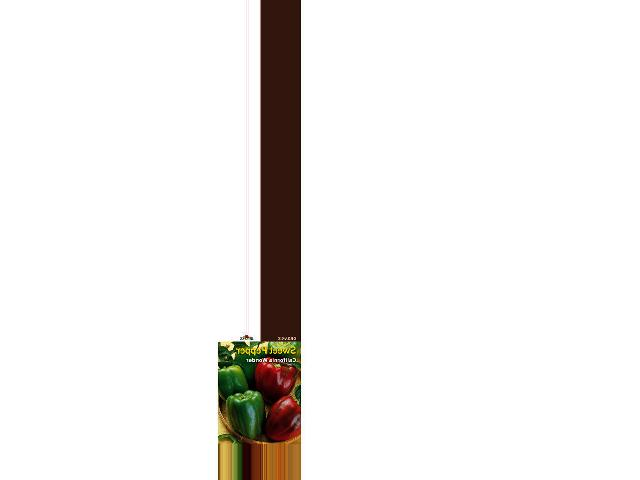bell_pepper: (216, 361, 245, 405)
